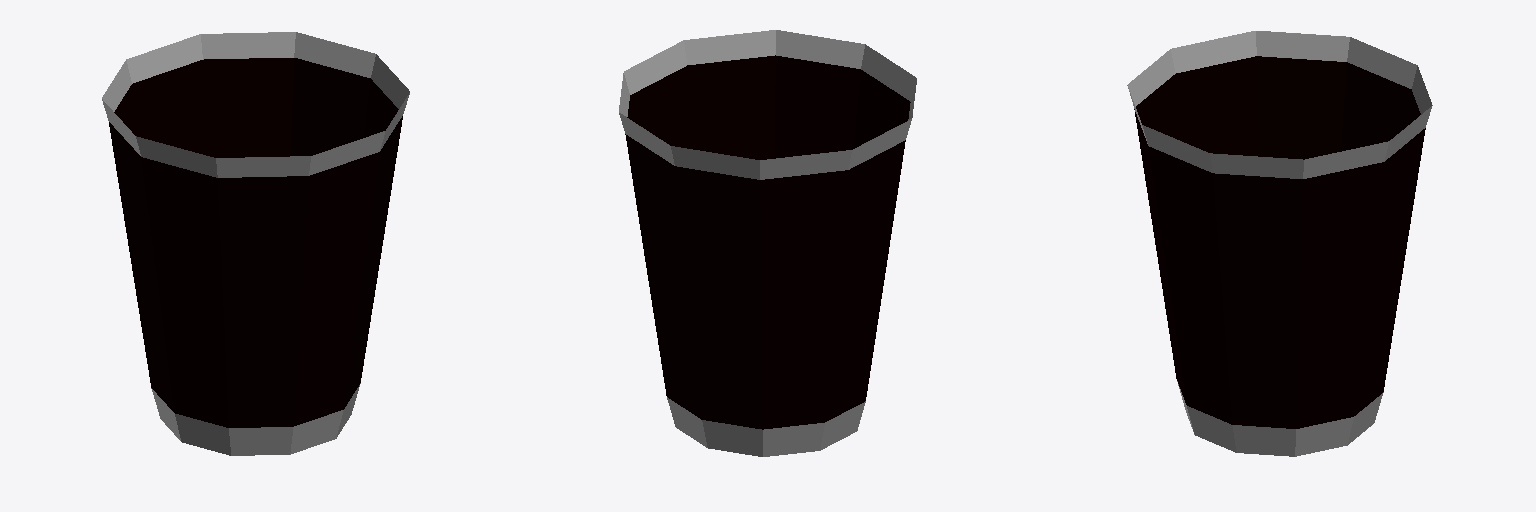
The model's file is lixo.obj.
3 renders of one model, left to right at view 1: azimuth 30°, elevation 25°; view 2: azimuth 150°, elevation 25°; view 3: azimuth 270°, elevation 25°, orthographic.
Visible parts, largest first — view 1: Cylinder_Cylinder; view 2: Cylinder_Cylinder; view 3: Cylinder_Cylinder.
Part boxes in pixels (bbox=[...]): Cylinder_Cylinder: bbox=[102, 32, 409, 455]; Cylinder_Cylinder: bbox=[619, 30, 916, 456]; Cylinder_Cylinder: bbox=[1127, 31, 1432, 456].
Size of the model in its own units: 6.39 by 7.43 by 6.39.